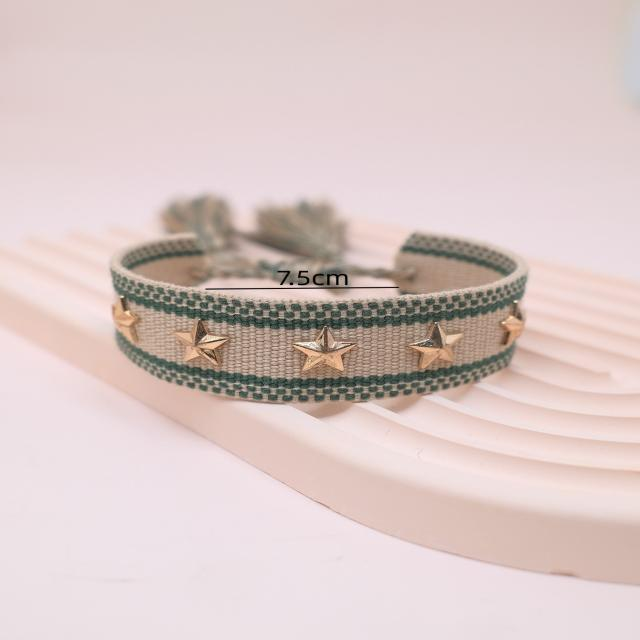bracelet: (53, 126, 640, 454)
